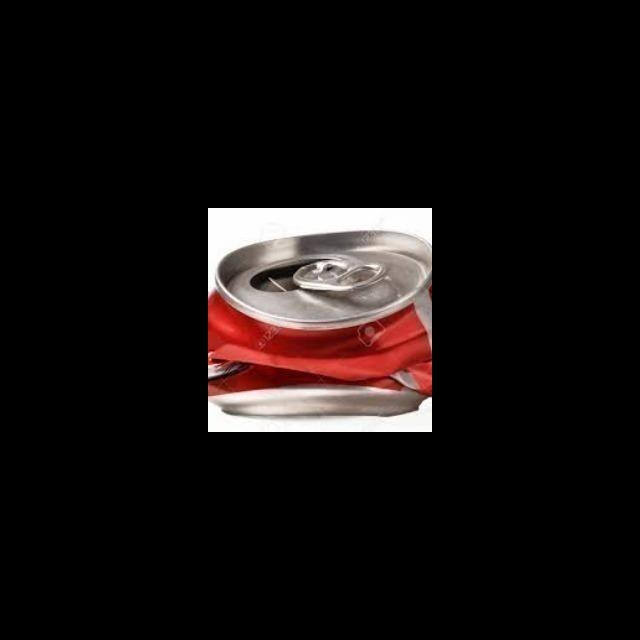metal: (208, 226, 432, 427)
